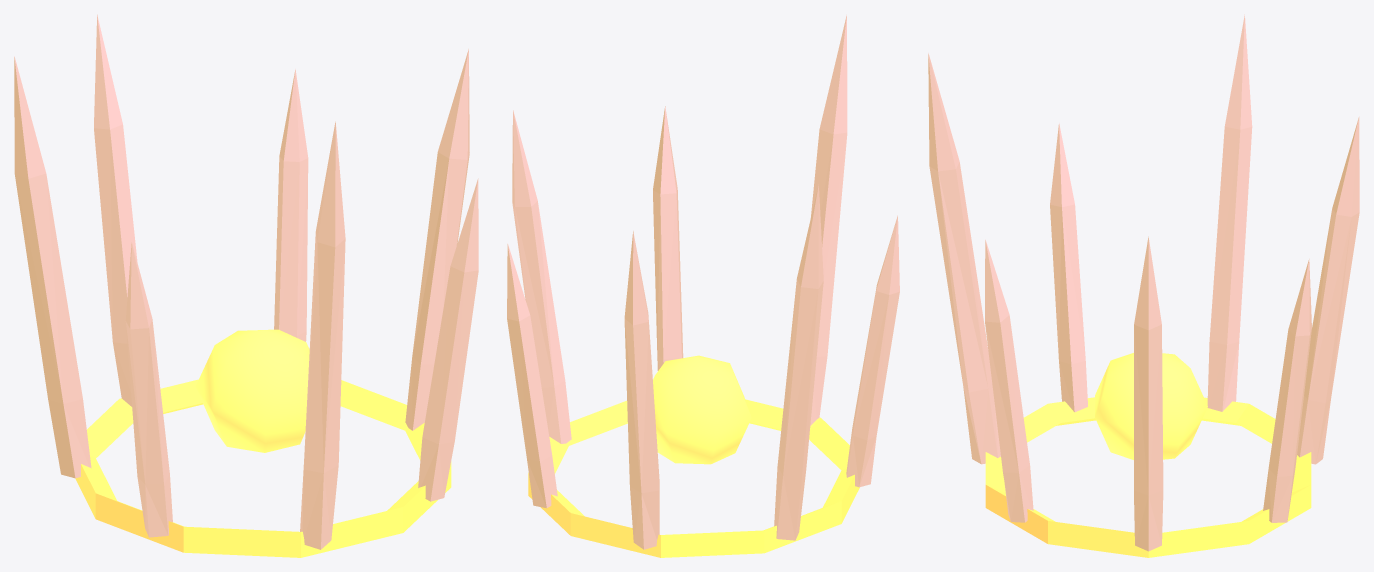
File: dc_choir_crown.glb
3 renders of one model, left to right at view 1: azimuth 30°, elevation 25°; view 2: azimuth 150°, elevation 25°; view 3: azimuth 270°, elevation 25°, orthographic. The views are drawn at different scales.
Parts seen in each view (by area): view 1: part.dc_choir_crown; view 2: part.dc_choir_crown; view 3: part.dc_choir_crown.
Part boxes in pixels (x1=…): part.dc_choir_crown: x1=14, y1=14, x2=478, y2=557; part.dc_choir_crown: x1=507, y1=15, x2=899, y2=557; part.dc_choir_crown: x1=928, y1=14, x2=1359, y2=557.
Bounding box in the file's own units: 0.5584 × 0.6113 × 0.5795.
